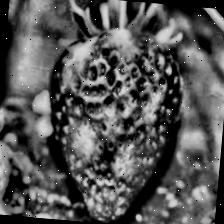Powdery Mildew Fruit: (36, 22, 188, 224)
